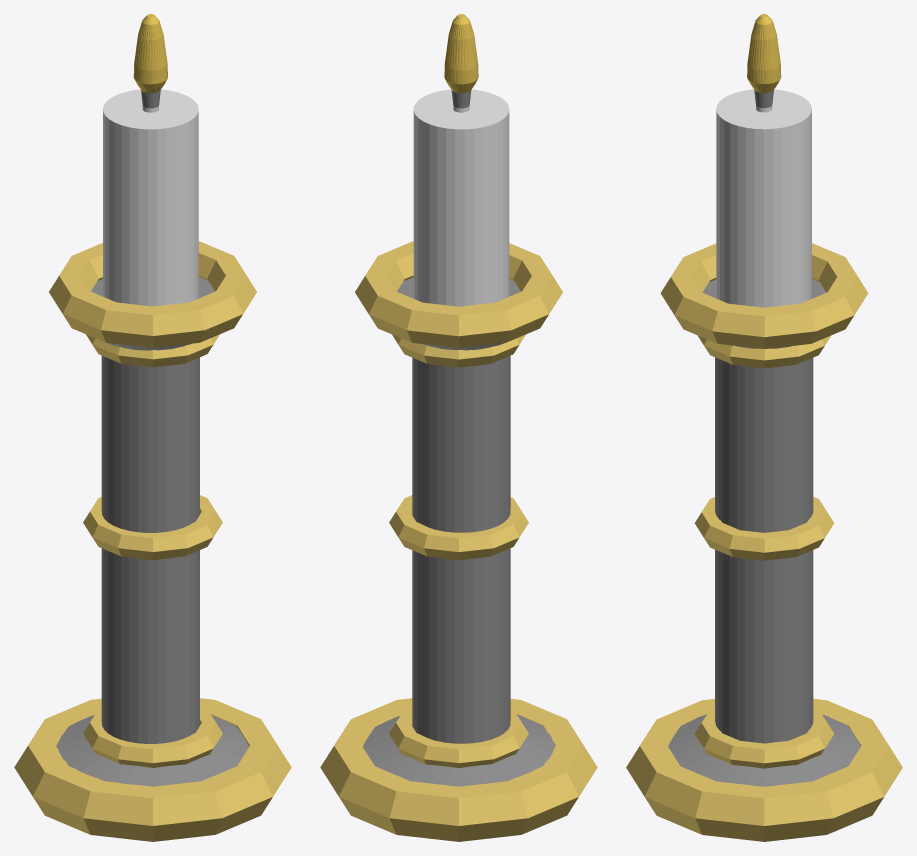
Rendered from CandelStick.fbx.
3 views of the same model, side by side, from view 1: azimuth 30°, elevation 25°; view 2: azimuth 150°, elevation 25°; view 3: azimuth 270°, elevation 25° (orthographic).
Visible parts, largest first — view 1: Candelabro; view 2: Candelabro; view 3: Candelabro.
Boxes of the visible parts, left/top/right/bottom form: Candelabro: left=14, top=14, right=291, bottom=841; Candelabro: left=320, top=14, right=597, bottom=841; Candelabro: left=626, top=14, right=902, bottom=841.
Bounding box in the file's own units: 37.36 × 115 × 37.36.
